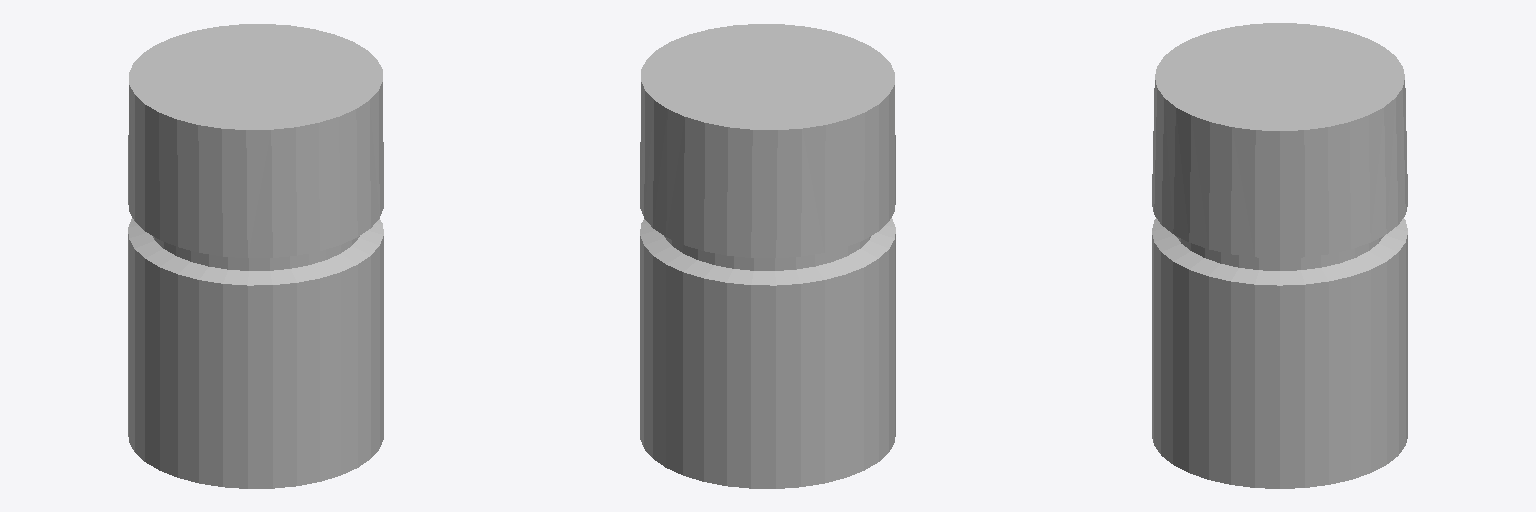
Rendered from Dark_Round_Short_Solid.obj.
3 renders of one model, left to right at view 1: azimuth 30°, elevation 25°; view 2: azimuth 150°, elevation 25°; view 3: azimuth 270°, elevation 25°, orthographic.
Parts seen in each view (by area): view 1: Dark_Round_Short_Solid; view 2: Dark_Round_Short_Solid; view 3: Dark_Round_Short_Solid.
Part boxes in pixels (x1,y1,x2,y2): Dark_Round_Short_Solid: (128,24,383,488); Dark_Round_Short_Solid: (640,24,895,488); Dark_Round_Short_Solid: (1152,23,1407,488).
Size of the model in its own units: 0.65 by 1 by 0.65.